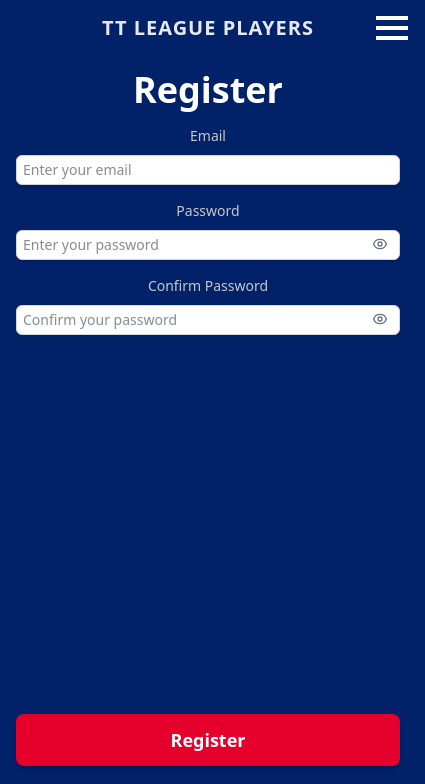
Test case: Register page › shows a registration error from Cognito in friendly words
Step 1. Type "a@b.com" into the field labelled "Email" → (208,170), box left=16, top=155, right=400, bottom=185
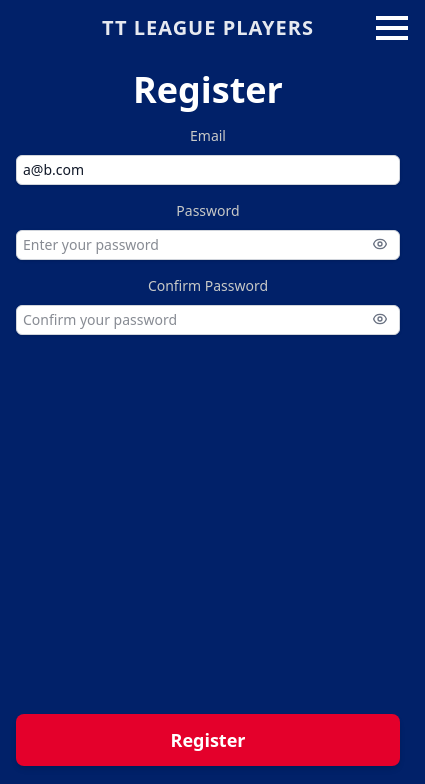
Step 2. Type "aA1!56789012" into the password field labelled "Password" → (208,245), box left=16, top=230, right=400, bottom=260
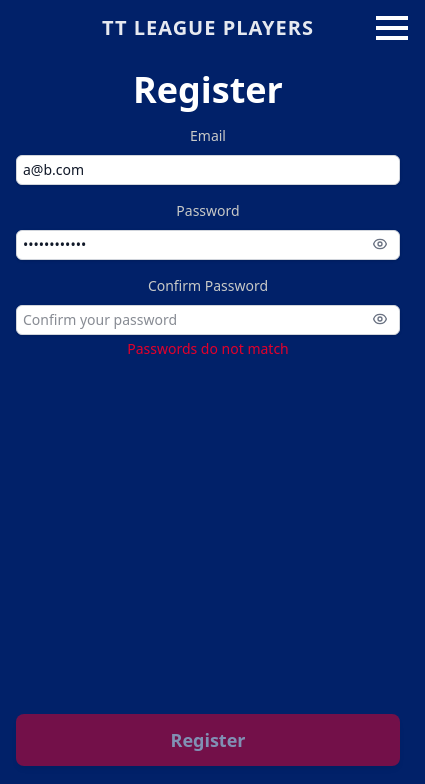
Step 3. Type "aA1!56789012" into the password field labelled "Confirm Password" → (208,320), box left=16, top=305, right=400, bottom=335
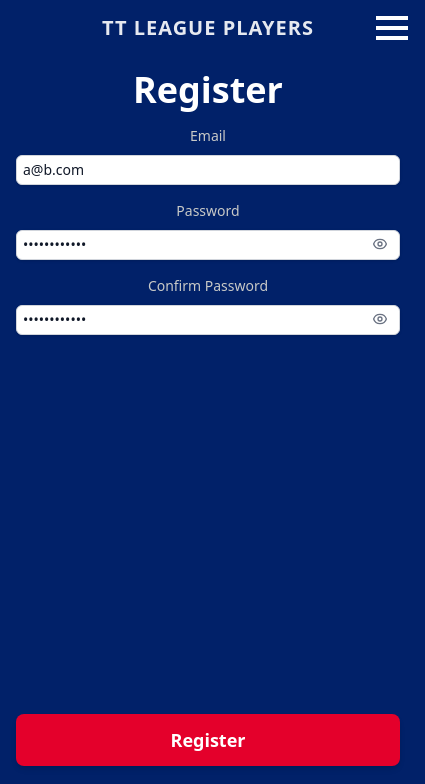
Step 4. Click the button with test id "register-submit-button" → (208,740), box left=16, top=714, right=400, bottom=766
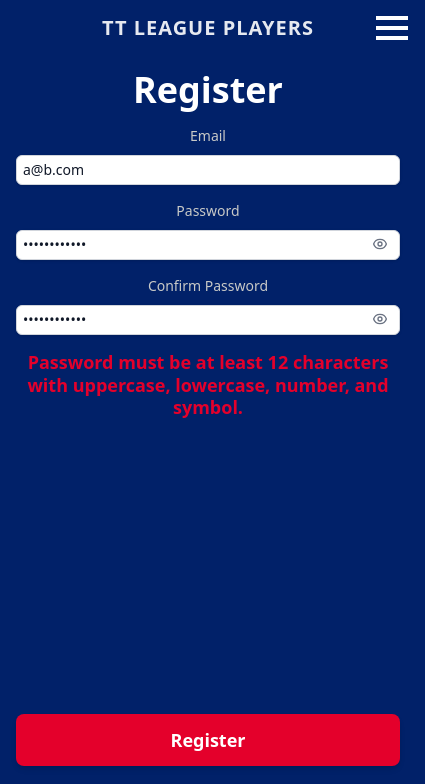
Expected: the text with test id "register-error-message" shows "Password must be at least 12 characters with uppercase, lowercase, number, and symbol.", left=28, top=350, right=389, bottom=419
